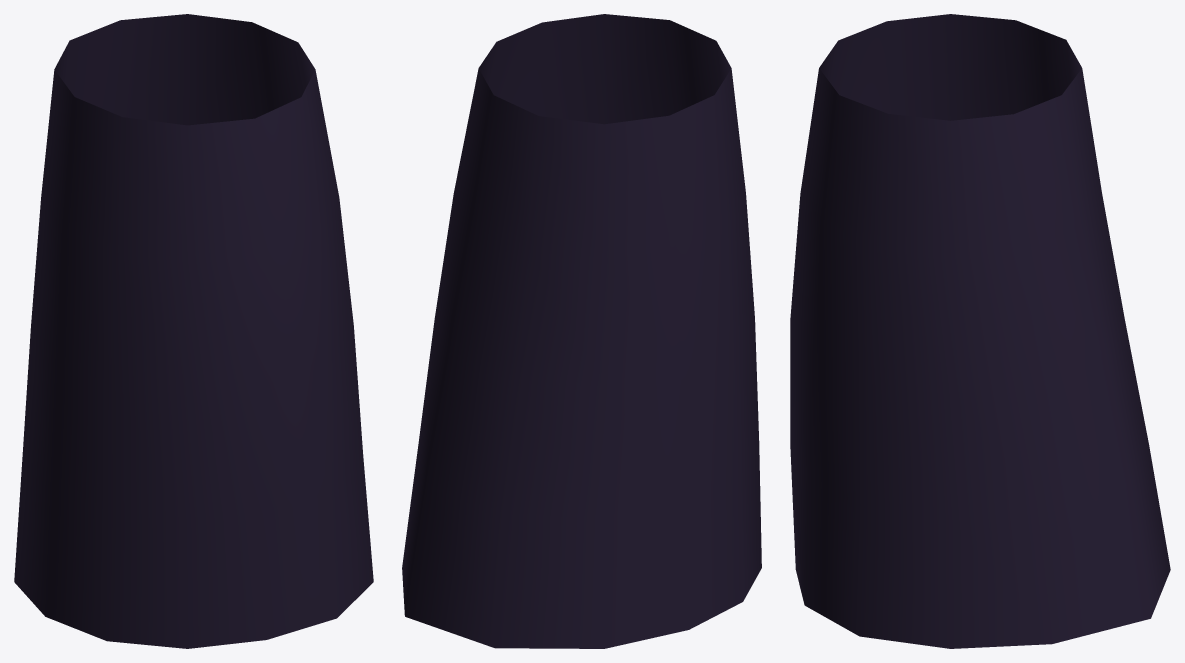
File: witch_costume_cuisse.L.glb
3 views of the same model, side by side, from view 1: azimuth 30°, elevation 25°; view 2: azimuth 150°, elevation 25°; view 3: azimuth 270°, elevation 25° (orthographic). The views are drawn at different scales.
Visible parts, largest first — view 1: witch_costume_cuisse.L; view 2: witch_costume_cuisse.L; view 3: witch_costume_cuisse.L.
Part boxes in pixels (x1,y1,x2,y2): witch_costume_cuisse.L: (14, 14, 373, 648); witch_costume_cuisse.L: (402, 14, 761, 648); witch_costume_cuisse.L: (790, 14, 1170, 648).
Bounding box in the file's own units: 0.2326 × 0.37 × 0.2542.
